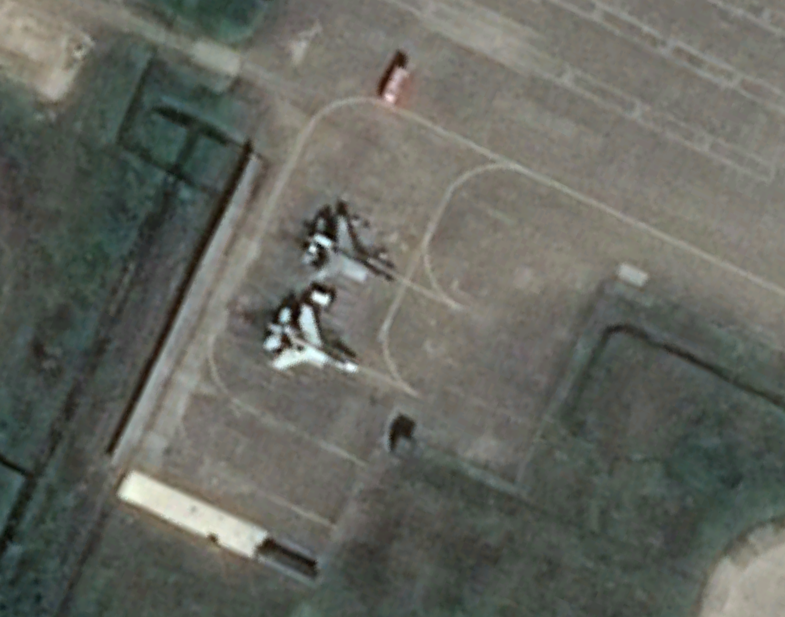A1: (287, 207, 405, 297), (258, 303, 369, 383)
